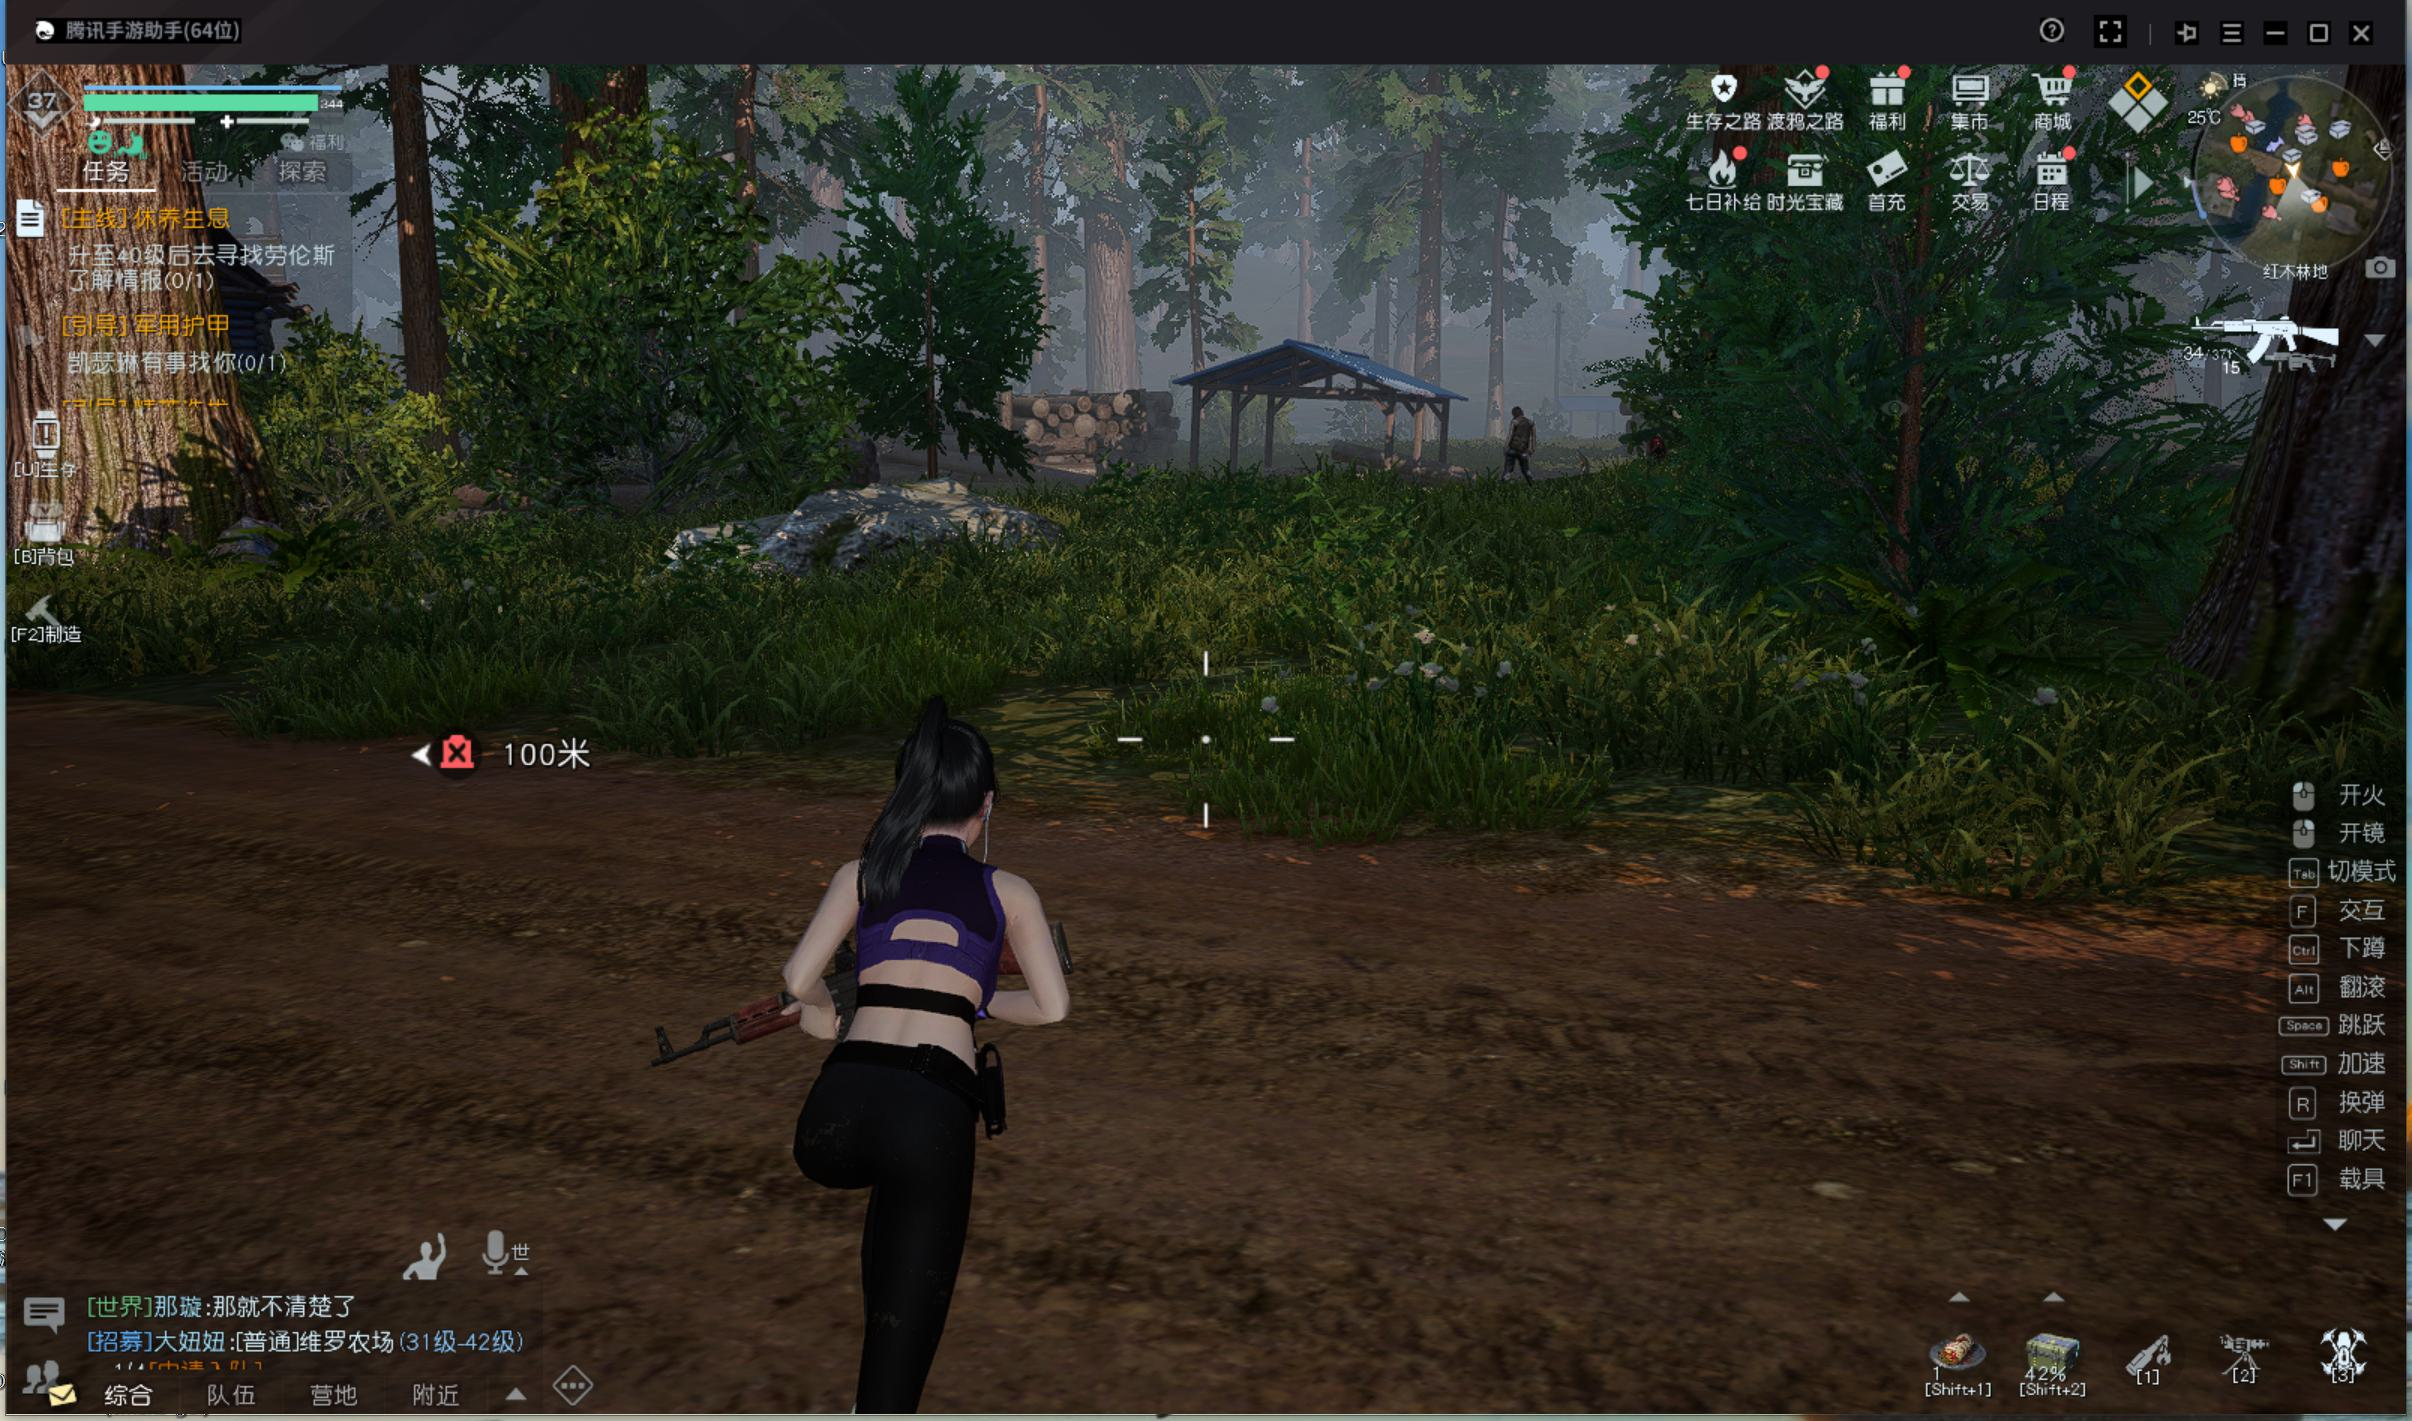tree: (8, 88, 294, 551)
